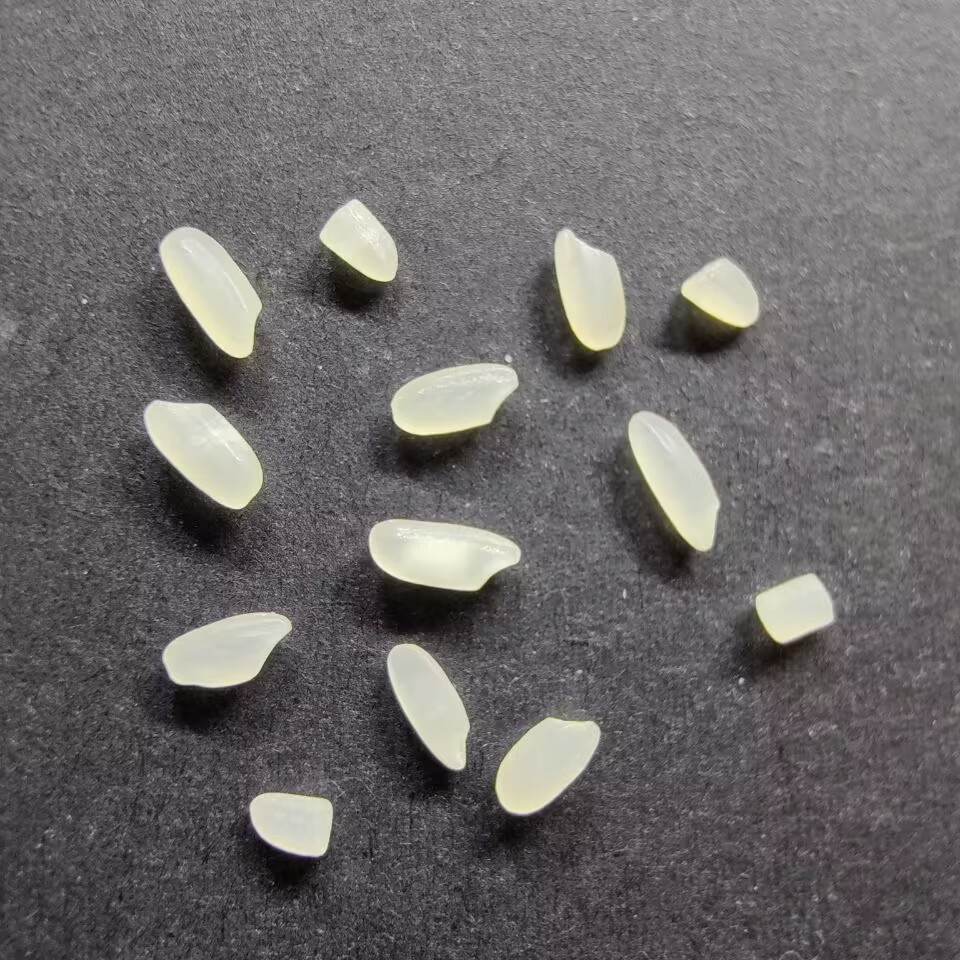broken: (315, 196, 402, 284), (247, 788, 336, 862), (752, 570, 837, 646), (679, 256, 764, 329)
rice: (159, 225, 266, 359), (626, 407, 723, 554), (143, 397, 266, 511), (366, 517, 525, 593), (384, 640, 474, 773), (492, 714, 605, 816), (160, 610, 295, 690), (390, 360, 519, 437), (552, 224, 629, 352)
